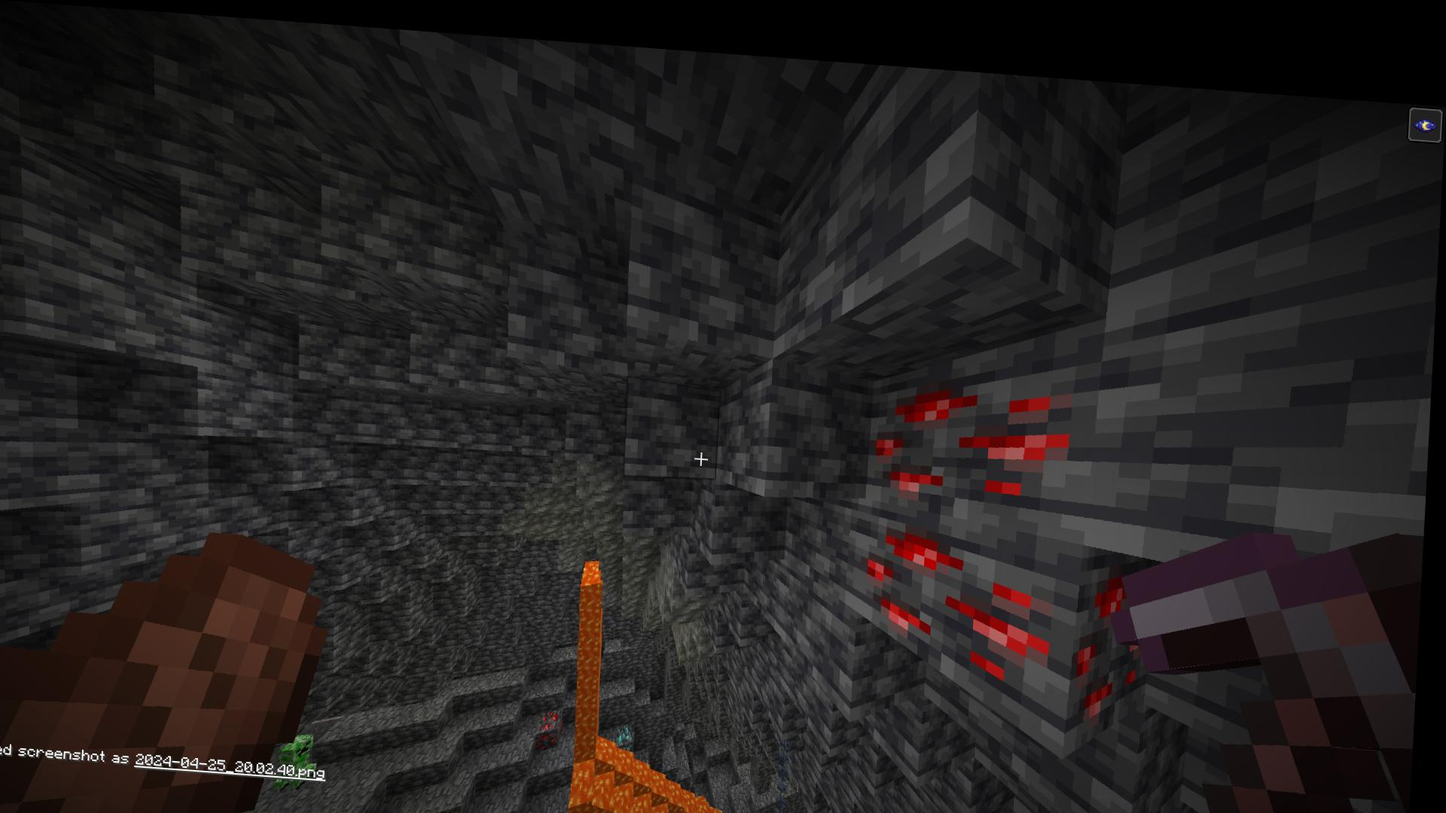diamond ore: (622, 711, 644, 740)
redstone ore: (860, 502, 1069, 685), (864, 355, 1071, 493), (546, 700, 572, 739)
